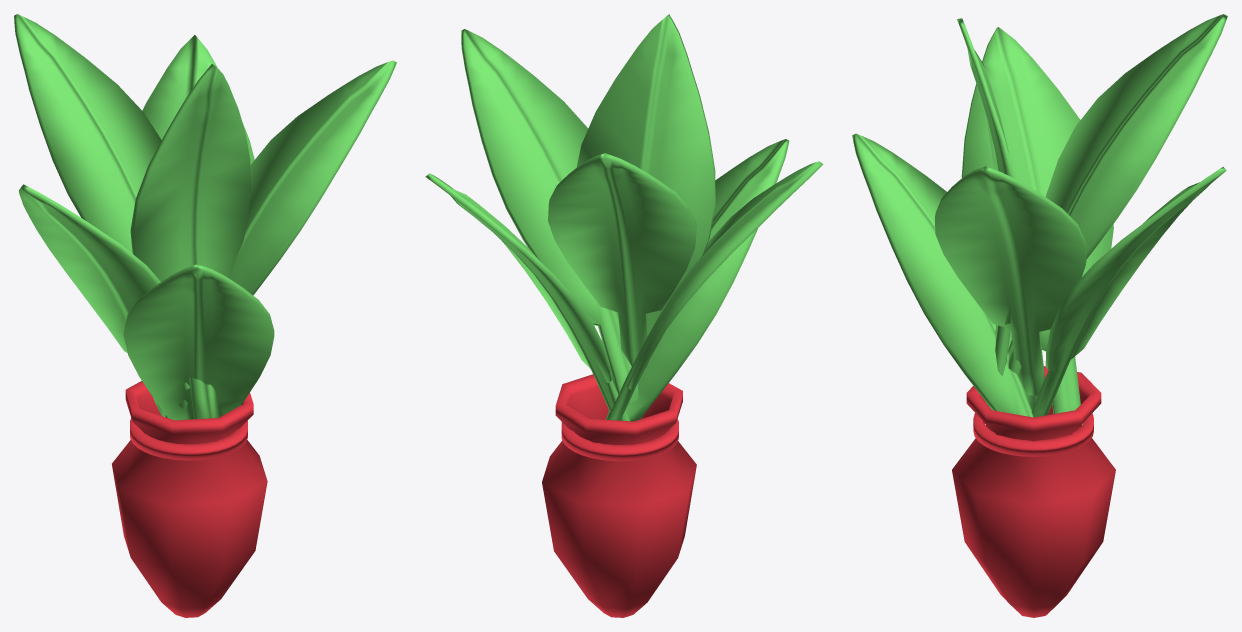
The picture shows the model from 3 angles, left to right: view 1: azimuth 30°, elevation 25°; view 2: azimuth 150°, elevation 25°; view 3: azimuth 270°, elevation 25°; orthographic projection. The views are drawn at different scales.
Parts seen in each view (by area): view 1: ha, fukuro; view 2: ha, fukuro; view 3: ha, fukuro.
Boxes of the visible parts, x1,y1,x2,y2 form: ha: (14, 14, 396, 420); fukuro: (112, 381, 267, 617); ha: (425, 14, 823, 421); fukuro: (542, 374, 696, 617); ha: (852, 14, 1227, 424); fukuro: (952, 366, 1115, 617).
Bounding box in the file's own units: 877 × 1306 × 758.
